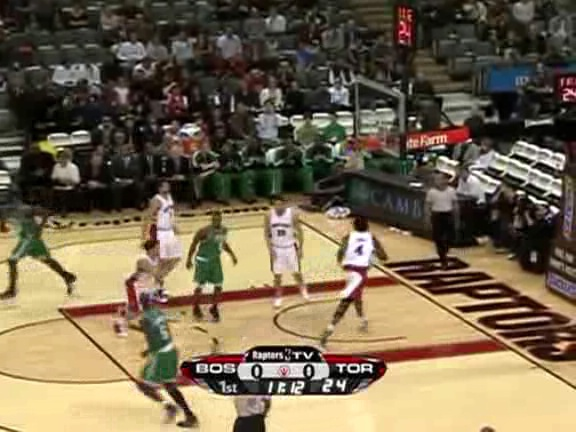person: (197, 214, 231, 295), (196, 214, 230, 295), (198, 214, 232, 295), (197, 213, 231, 294), (197, 215, 231, 296)
target_negative: (460, 75, 576, 378), (452, 5, 529, 273), (183, 355, 317, 400), (308, 260, 399, 304), (356, 131, 359, 363), (568, 259, 571, 379)
